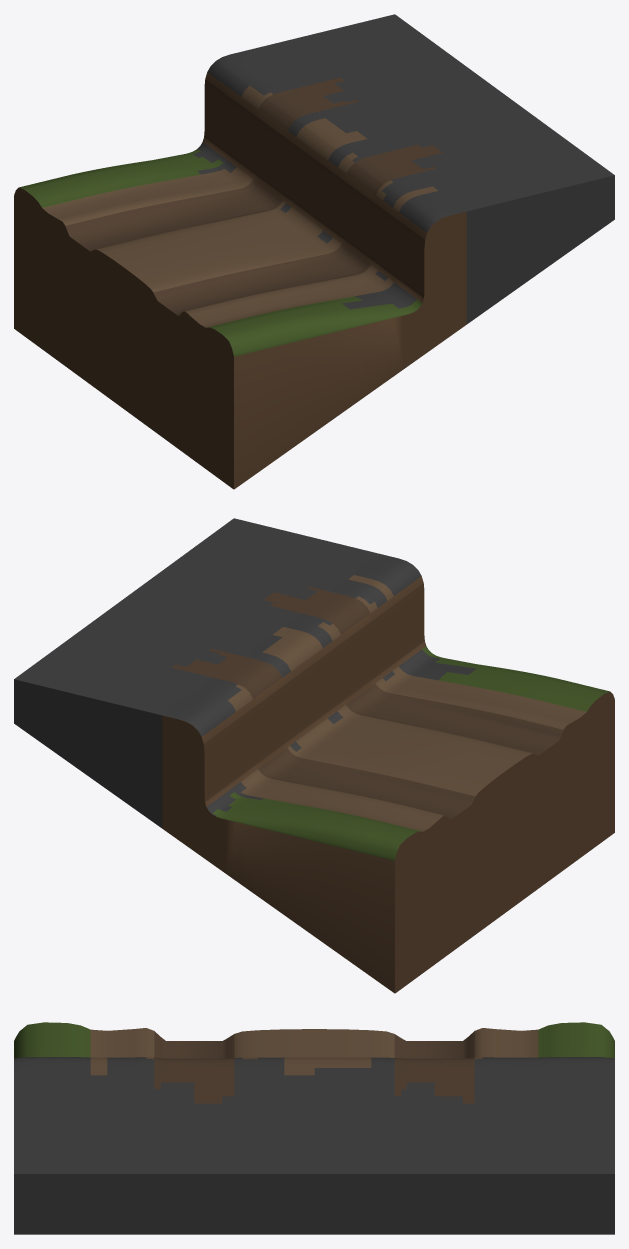
3 renders of one model, top to bottom at view 1: azimuth 30°, elevation 25°; view 2: azimuth 150°, elevation 25°; view 3: azimuth 270°, elevation 25°, orthographic. The views are drawn at different scales.
Visible parts, largest first — view 1: s2t; view 2: s2t; view 3: s2t.
Boxes of the visible parts, bbox=[...] form: s2t: bbox=[14, 14, 614, 489]; s2t: bbox=[14, 518, 614, 993]; s2t: bbox=[14, 1022, 614, 1234].
Size of the model in its own units: 9 by 5.01 by 9.
